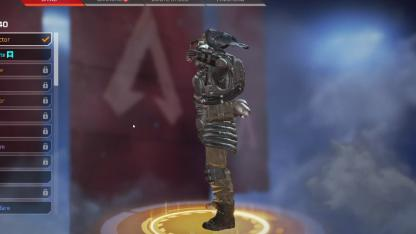Target: (193, 32, 245, 195)
